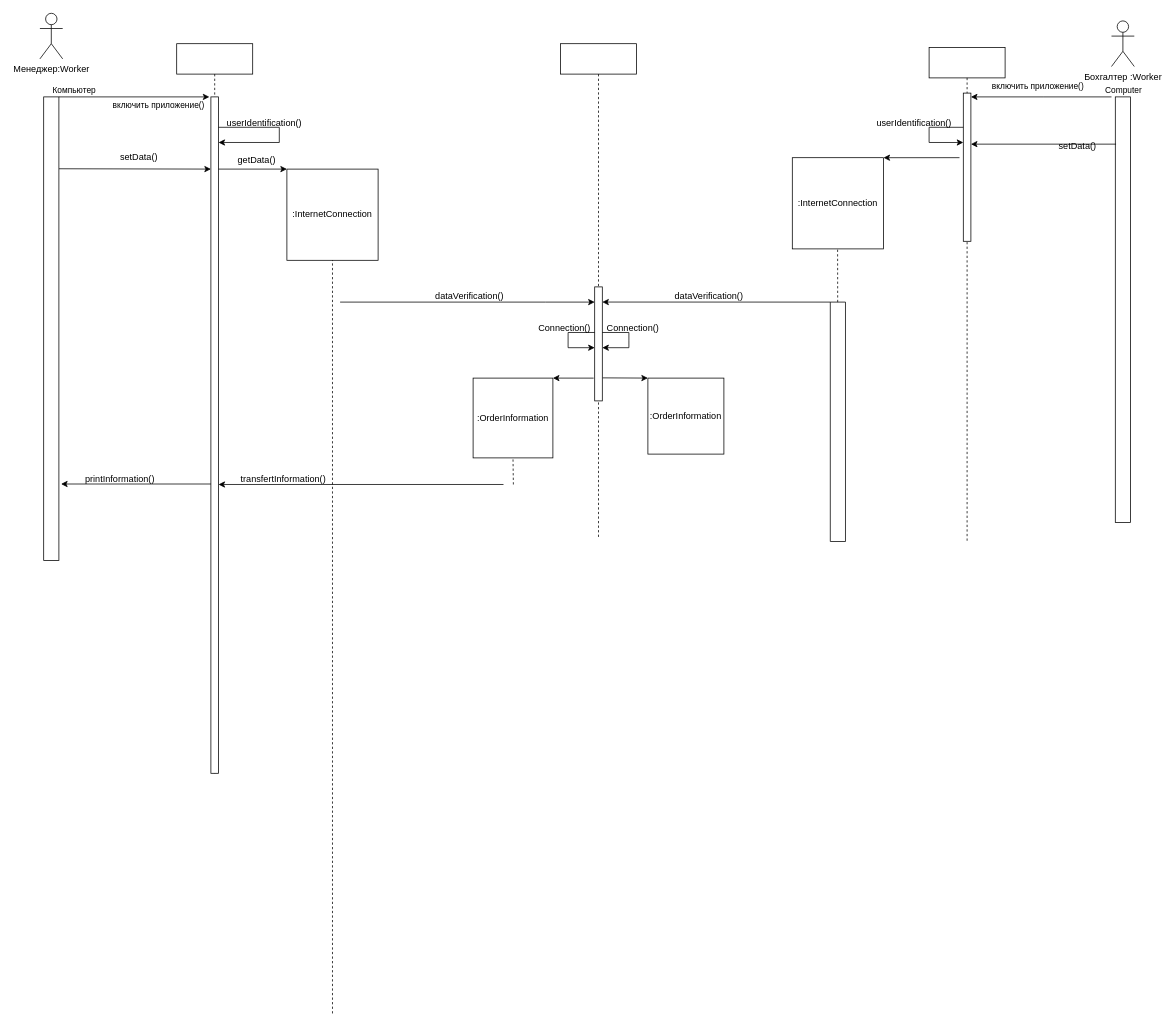
Some shapes in this 1174 by 1028 pixel diagram are drawn without their labels. Here are the shapes that lost their labels. From the top down, the box of each, then its label:
(560, 43, 636, 538): :Website
(928, 47, 1005, 542): B:Приложение
(176, 43, 253, 773): А:Приложение
